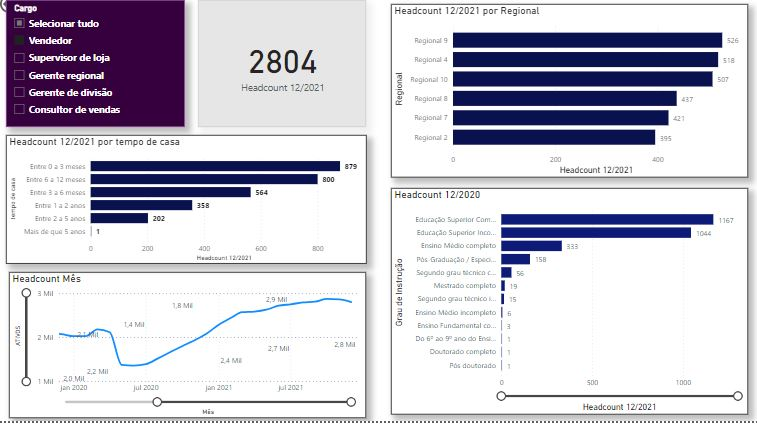

The page's visual inventory and layout, read from the dashboard file:
{"tool":"powerbi","page":{"name":"Headcount","canvas":[1280,720],"ordinal":0},"visuals":[{"type":"actionButton","box":[0,0,100,40],"z":0},{"type":"lineChart","title":"Headcount Mês","fields":{"Category":["mensalizada.Mês"],"Y":["mensalizada.ATIVOS"]},"box":[20.2,469.4,599,244.8],"z":1000},{"type":"slicer","fields":{"Values":["mensalizada.Cargo"]},"box":[15.1,13.4,300.3,213.1],"z":2000},{"type":"card","fields":{"Values":["mensalizada.Headcount Vendedor"]},"box":[337.2,13.4,281.8,213.1],"z":3000},{"type":"clusteredBarChart","title":"Headcount 12/2020 ","fields":{"Y":["mensalizada.Headcount 12/2020"],"Category":["mensalizada.Grau de Instrução"]},"box":[661,328.3,599,380.2],"z":4000},{"type":"clusteredBarChart","fields":{"Y":["mensalizada.Headcount 12/2021"],"Category":["mensalizada.Regional"]},"box":[661,20.2,599,290.9],"z":5000},{"type":"clusteredBarChart","fields":{"Category":["mensalizada.tempo de casa"],"Y":["mensalizada.Headcount 12/2021"]},"box":[14.4,240.5,604.8,216],"z":6000}]}

Visuals, with their boxes in screenshot pixels (x1, y1, x2, y2), scaled from the page's 1280x720 canvas onto the 757x425 screenshot:
actionButton: Rect(0, 0, 59, 24)
"Headcount Mês" lineChart: Rect(12, 277, 366, 422)
slicer - mensalizada.Cargo: Rect(9, 8, 187, 134)
card - mensalizada.Headcount Vendedor: Rect(199, 8, 366, 134)
"Headcount 12/2020 " clusteredBarChart: Rect(391, 194, 745, 418)
clusteredBarChart - mensalizada.Headcount 12/2021 x mensalizada.Regional: Rect(391, 12, 745, 184)
clusteredBarChart - mensalizada.tempo de casa x mensalizada.Headcount 12/2021: Rect(9, 142, 366, 269)
